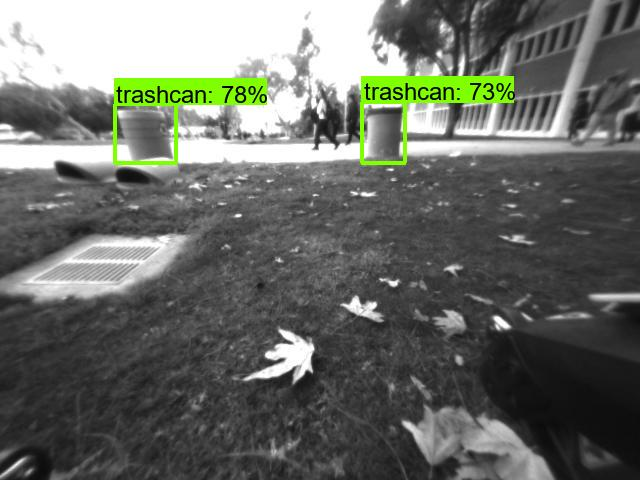trashcan: (116, 106, 183, 171), (366, 104, 406, 163)
